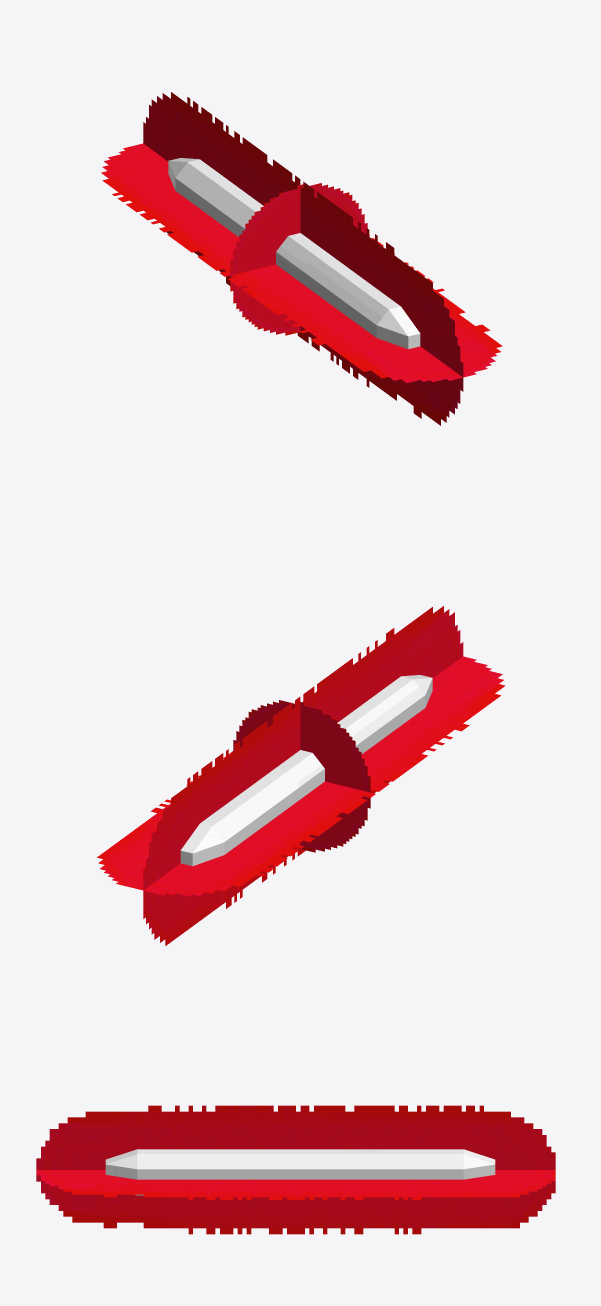
The model's file is bullet.gltf.
3 renders of one model, top to bottom at view 1: azimuth 30°, elevation 25°; view 2: azimuth 150°, elevation 25°; view 3: azimuth 270°, elevation 25°, orthographic. The views are drawn at different scales.
Parts seen in each view (by area): view 1: plane (×3), beveled_cuboid; view 2: plane (×3), beveled_cuboid; view 3: plane (×2), beveled_cuboid.
Boxes of the visible parts, bbox=[...] form: plane (×3): bbox=[101, 92, 502, 425]; beveled_cuboid: bbox=[168, 158, 420, 349]; plane (×3): bbox=[97, 606, 505, 945]; beveled_cuboid: bbox=[180, 675, 432, 866]; plane (×2): bbox=[36, 1105, 555, 1234]; beveled_cuboid: bbox=[105, 1149, 495, 1195].
Bounding box in the file's own units: 0.5625 × 0.5625 × 1.56.
1 material, 1 textured.
